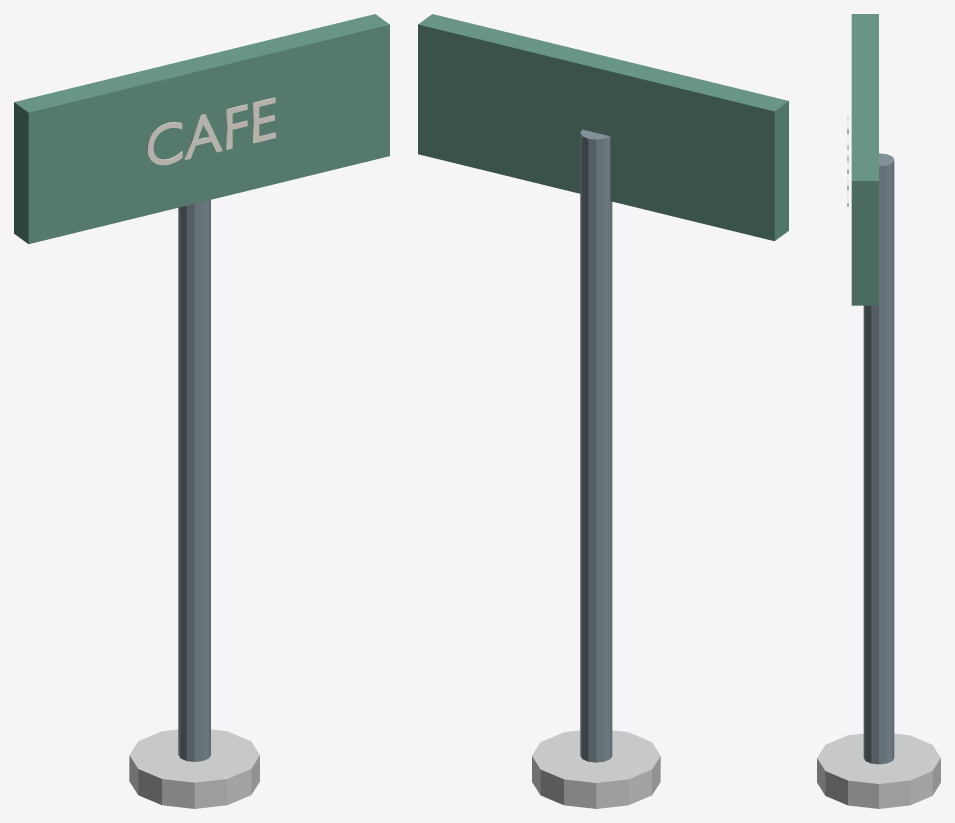
File: cafe.glb
3 renders of one model, left to right at view 1: azimuth 30°, elevation 25°; view 2: azimuth 150°, elevation 25°; view 3: azimuth 270°, elevation 25°, orthographic. The views are drawn at different scales.
Visible parts, largest first — view 1: cafe_002, cafe_000, cafe_001, cafe_003; view 2: cafe_002, cafe_000, cafe_001; view 3: cafe_000, cafe_002, cafe_001.
Part boxes in pixels (x1=…): cafe_002: x1=14, y1=14, x2=389, y2=244; cafe_000: x1=178, y1=200, x2=210, y2=761; cafe_001: x1=129, y1=729, x2=259, y2=808; cafe_003: x1=147, y1=97, x2=275, y2=165; cafe_002: x1=418, y1=14, x2=788, y2=240; cafe_000: x1=580, y1=129, x2=612, y2=762; cafe_001: x1=532, y1=730, x2=660, y2=808; cafe_000: x1=863, y1=153, x2=894, y2=764; cafe_002: x1=851, y1=14, x2=878, y2=305; cafe_001: x1=817, y1=733, x2=940, y2=808.
Size of the model in its own units: 1.15 by 2.2 by 0.36.
